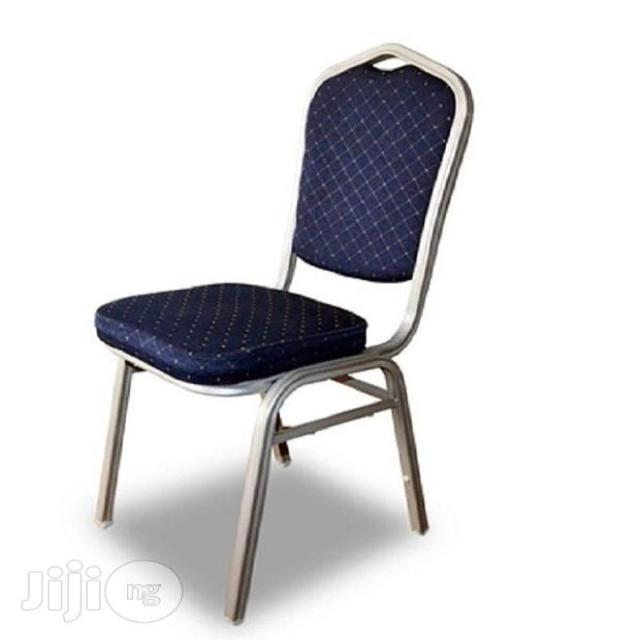chair: (87, 37, 477, 630)
